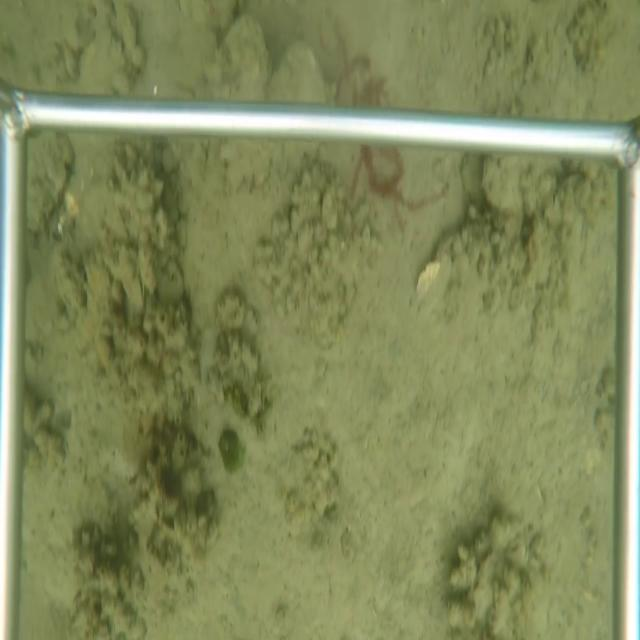Oyster-Closed: (128, 256, 153, 321)
Oyster-Indeterminate: (201, 11, 272, 102), (27, 131, 75, 240), (264, 35, 338, 104), (480, 155, 524, 215), (468, 553, 498, 622)
